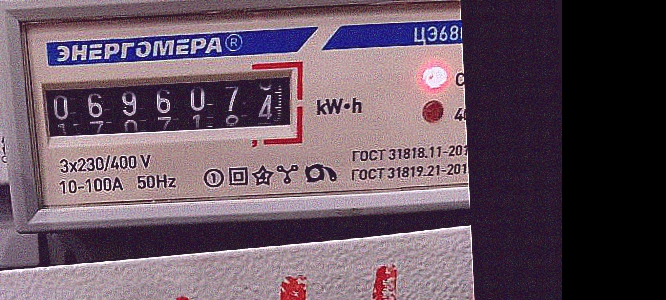0: (51, 90, 71, 120), (187, 83, 207, 111)
4: (255, 92, 274, 121)
6: (85, 90, 104, 118), (154, 85, 173, 113)
7: (222, 81, 242, 112)
9: (119, 88, 138, 117)
screen: (29, 56, 312, 156)
